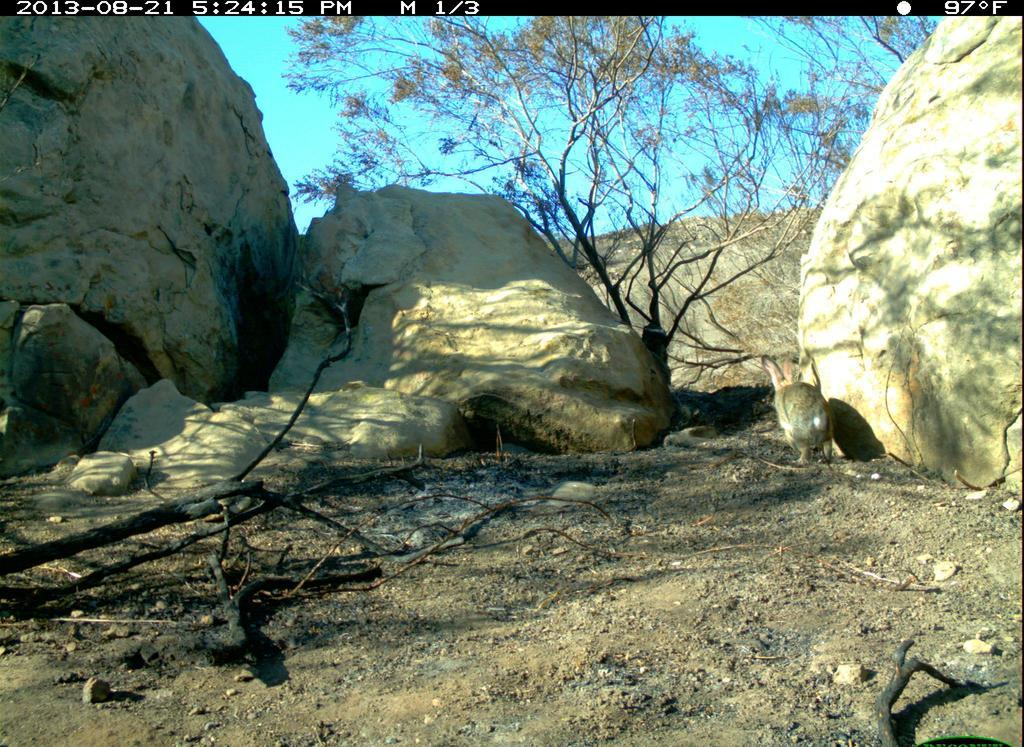rabbit: (754, 349, 848, 482)
